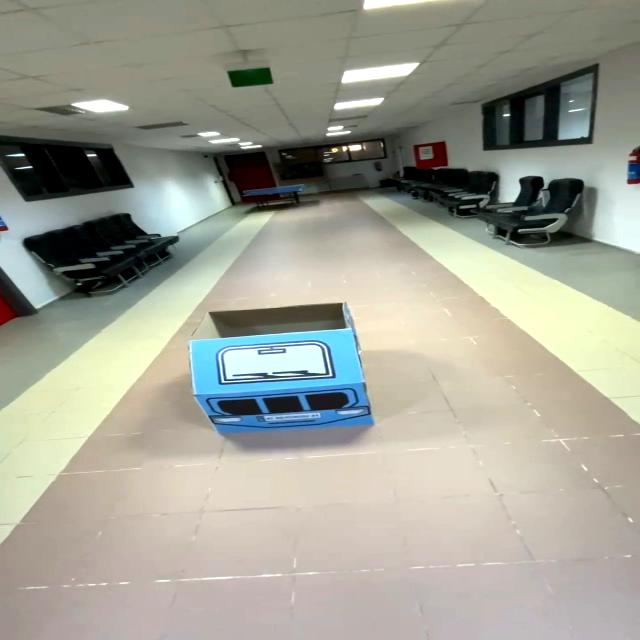blue_car: (167, 290, 403, 439)
